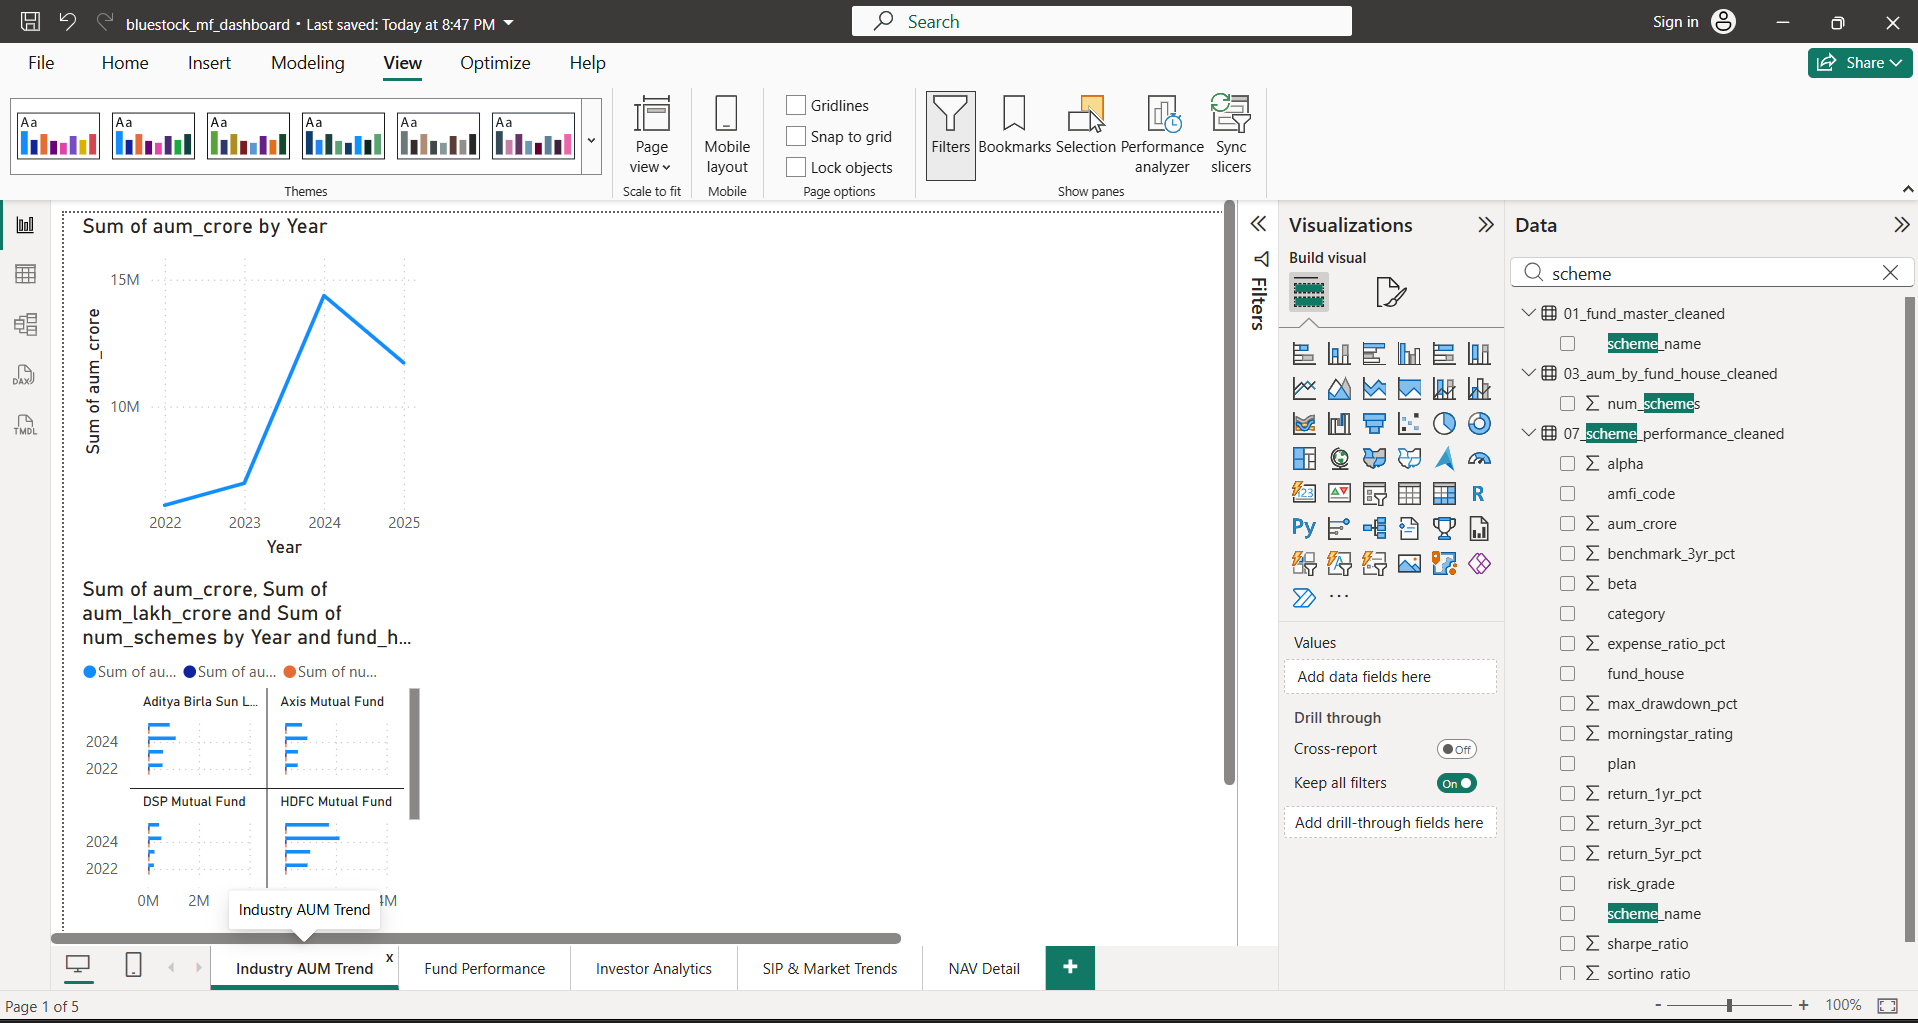

The dashboard page shown, as its layout file describes it:
{"tool":"powerbi","page":{"name":"Industry AUM Trend","canvas":[1280,720],"ordinal":0},"visuals":[{"type":"lineChart","fields":{"Category":["03_aum_by_fund_house_cleaned.date.Variation.Date Hierarchy.Year"],"Y":["Sum(03_aum_by_fund_house_cleaned.aum_crore)"]},"box":[10,0,280,280],"z":0},{"type":"clusteredBarChart","fields":{"Category":["03_aum_by_fund_house_cleaned.date.Variation.Date Hierarchy.Year","03_aum_by_fund_house_cleaned.date.Variation.Date Hierarchy.Quarter","03_aum_by_fund_house_cleaned.date.Variation.Date Hierarchy.Month","03_aum_by_fund_house_cleaned.date.Variation.Date Hierarchy.Day"],"Y":["Sum(03_aum_by_fund_house_cleaned.aum_crore)","Sum(03_aum_by_fund_house_cleaned.aum_lakh_crore)","Sum(03_aum_by_fund_house_cleaned.num_schemes)"],"Rows":["03_aum_by_fund_house_cleaned.fund_house"]},"box":[10,290,280,280],"z":1}]}

Visuals, with their boxes on the page's 1280x720 design canvas (x1, y1, x2, y2). These are canvas units, not pixel positions in the 1918x1023 screenshot, which may show the page scaled, cropped or inside an application window:
lineChart - 03_aum_by_fund_house_cleaned.date.Variation.Date Hierarchy.Year x Sum(03_aum_by_fund_house_cleaned.aum_crore): (10,0,290,280)
clusteredBarChart - 03_aum_by_fund_house_cleaned.date.Variation.Date Hierarchy.Year x 03_aum_by_fund_house_cleaned.date.Variation.Date Hierarchy.Quarter: (10,290,290,570)
